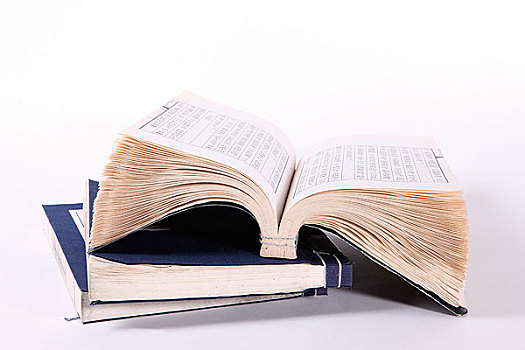book: (89, 79, 468, 315), (25, 197, 347, 320), (80, 177, 328, 290)
